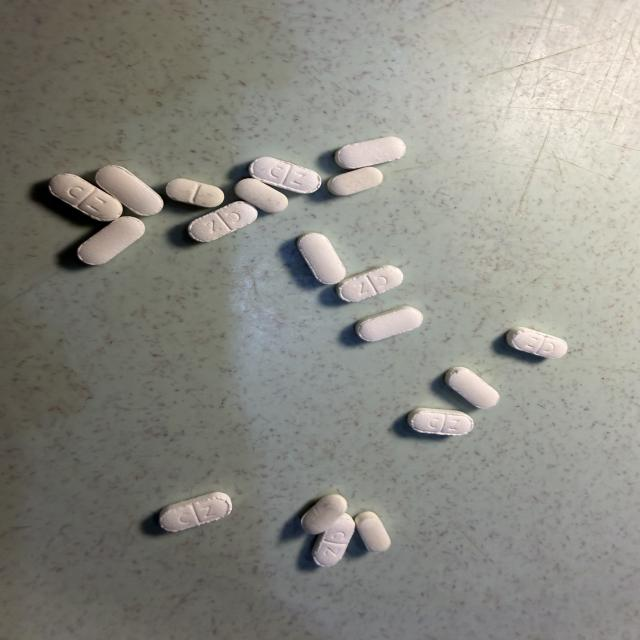pill: (49, 174, 122, 221), (96, 166, 163, 216), (78, 217, 144, 265), (188, 201, 257, 242), (160, 492, 232, 531), (249, 157, 321, 193), (297, 233, 346, 284), (336, 265, 403, 301), (355, 306, 423, 341), (312, 514, 355, 566), (445, 367, 499, 408), (335, 137, 406, 168), (506, 327, 567, 358), (235, 178, 288, 213), (301, 494, 347, 534), (407, 408, 473, 435), (166, 178, 224, 206), (327, 167, 383, 195), (355, 512, 390, 552)
